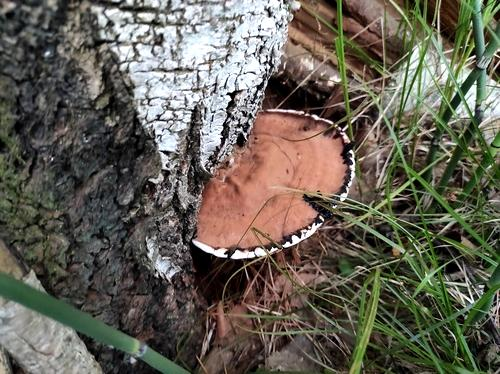Ganoderma - Fruit Body: (192, 106, 356, 259)
